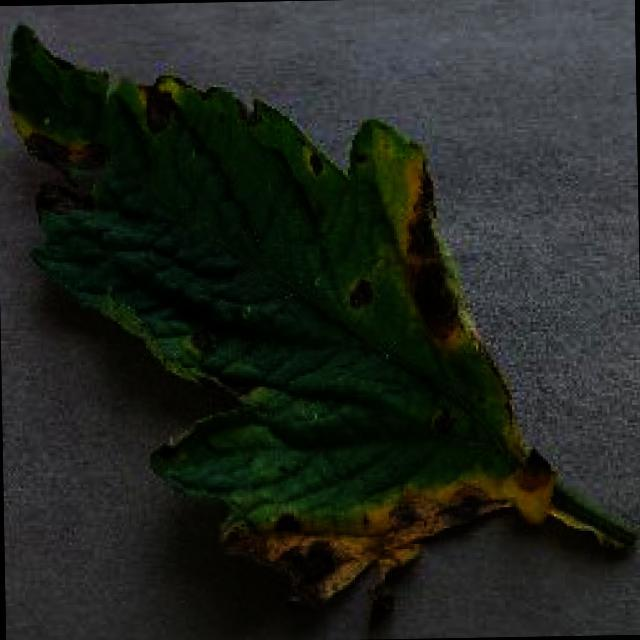Tomato Early blight leaf: (2, 11, 556, 635)
